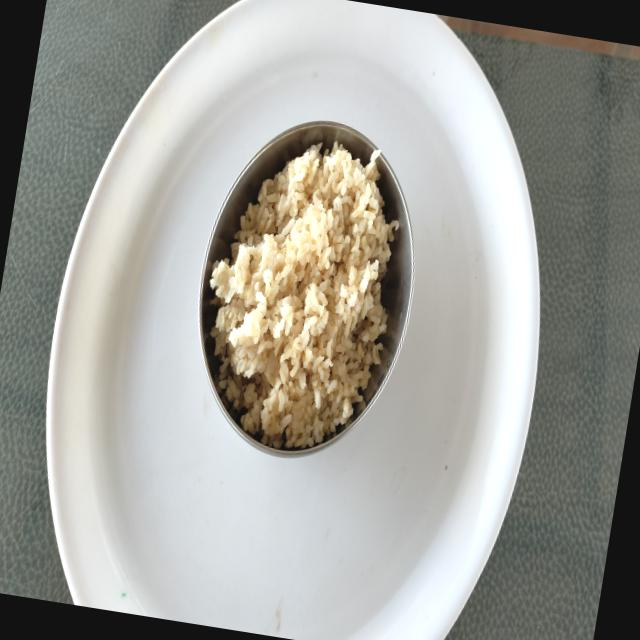brown-rice: (209, 144, 398, 450)
